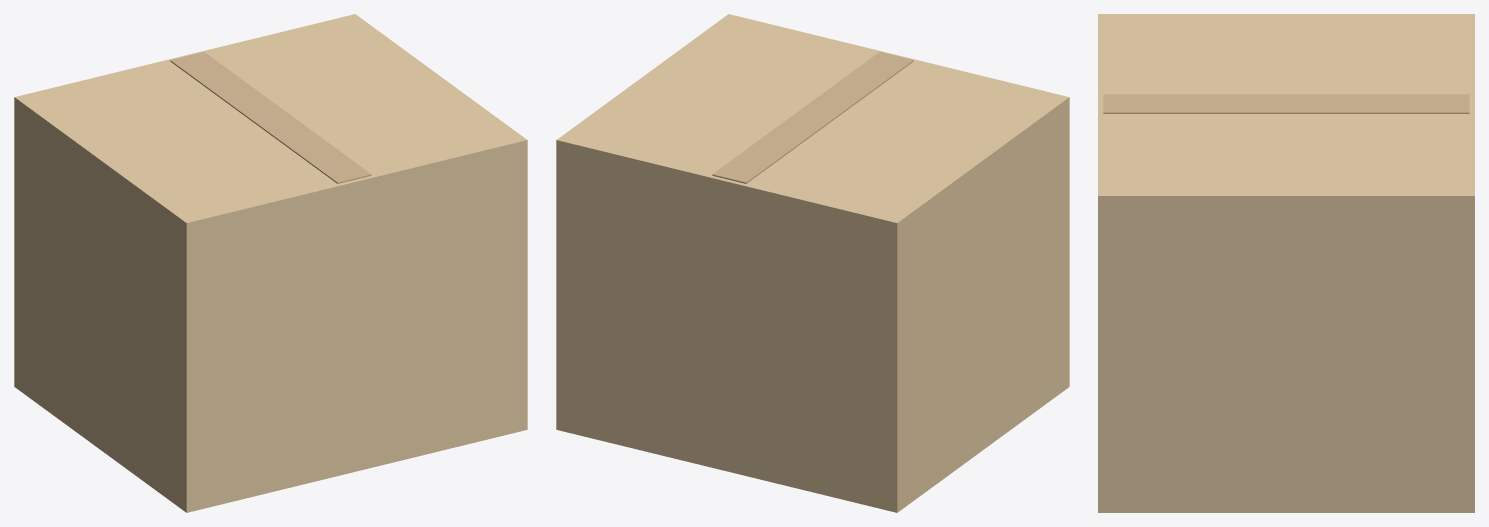
The model's file is 04_cardboard_boxes.glb.
3 views of the same model, side by side, from view 1: azimuth 30°, elevation 25°; view 2: azimuth 150°, elevation 25°; view 3: azimuth 270°, elevation 25° (orthographic). The views are drawn at different scales.
Visible parts, largest first — view 1: 04_cardboard_boxes_Intact; view 2: 04_cardboard_boxes_Intact; view 3: 04_cardboard_boxes_Intact.
Boxes of the visible parts, x1,y1,x2,y2 form: 04_cardboard_boxes_Intact: (14, 14, 527, 512); 04_cardboard_boxes_Intact: (556, 14, 1069, 512); 04_cardboard_boxes_Intact: (1098, 14, 1474, 512).
Size of the model in its own units: 0.3754 by 0.3064 by 0.3285.
